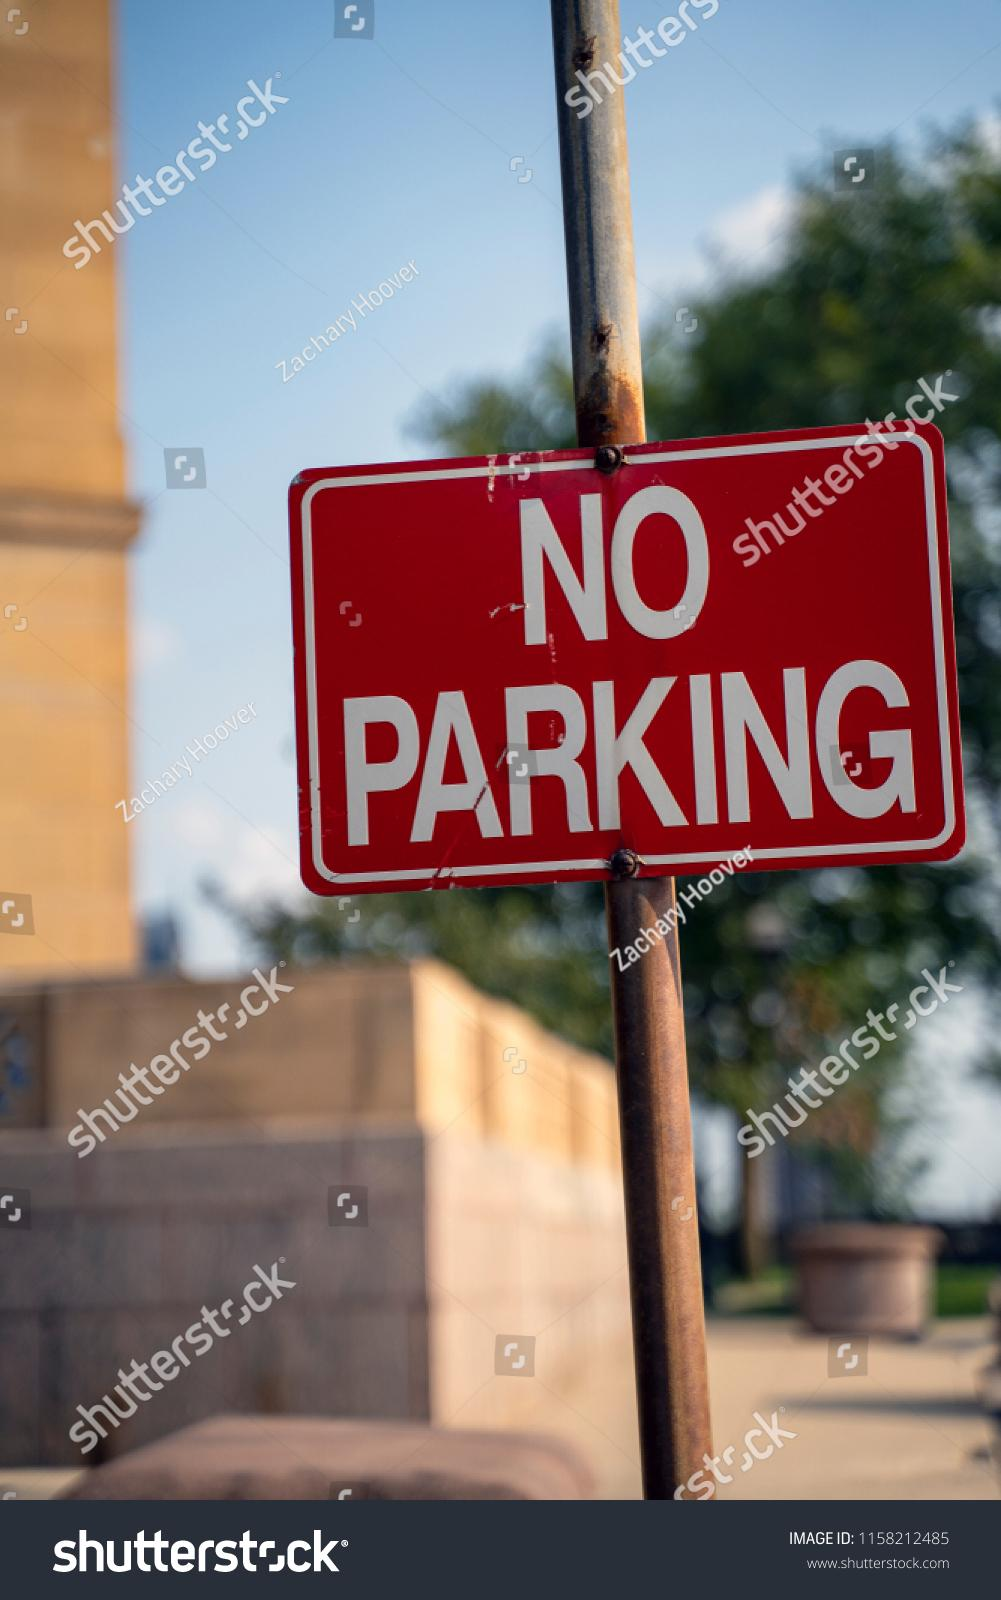No Parking: (301, 470, 950, 868)
